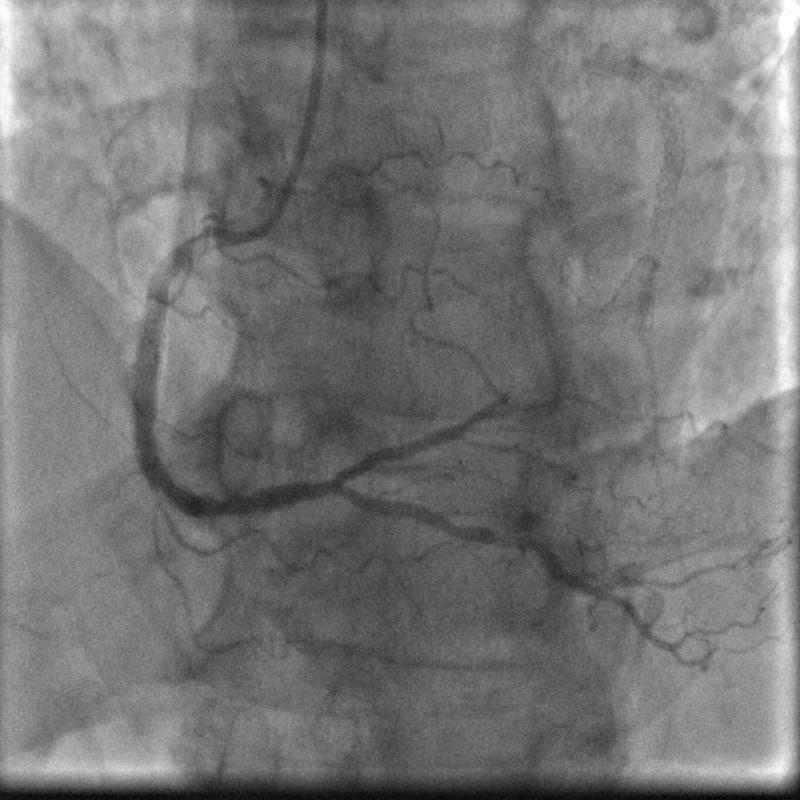Stenosis: (164, 226, 221, 269)
